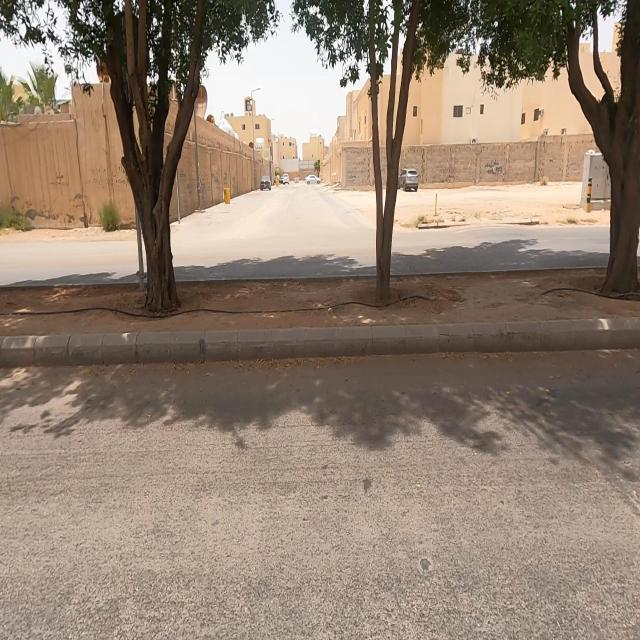Graffiti: (85, 168, 111, 191), (50, 172, 72, 194), (111, 165, 131, 188), (487, 160, 503, 177)
